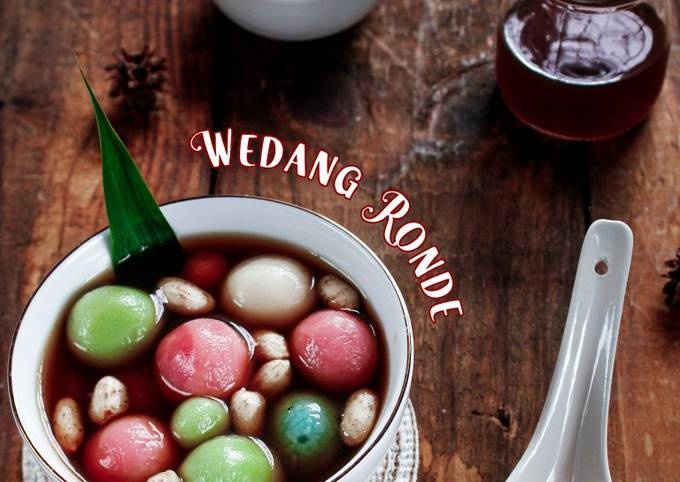ronde: (41, 229, 391, 482)
